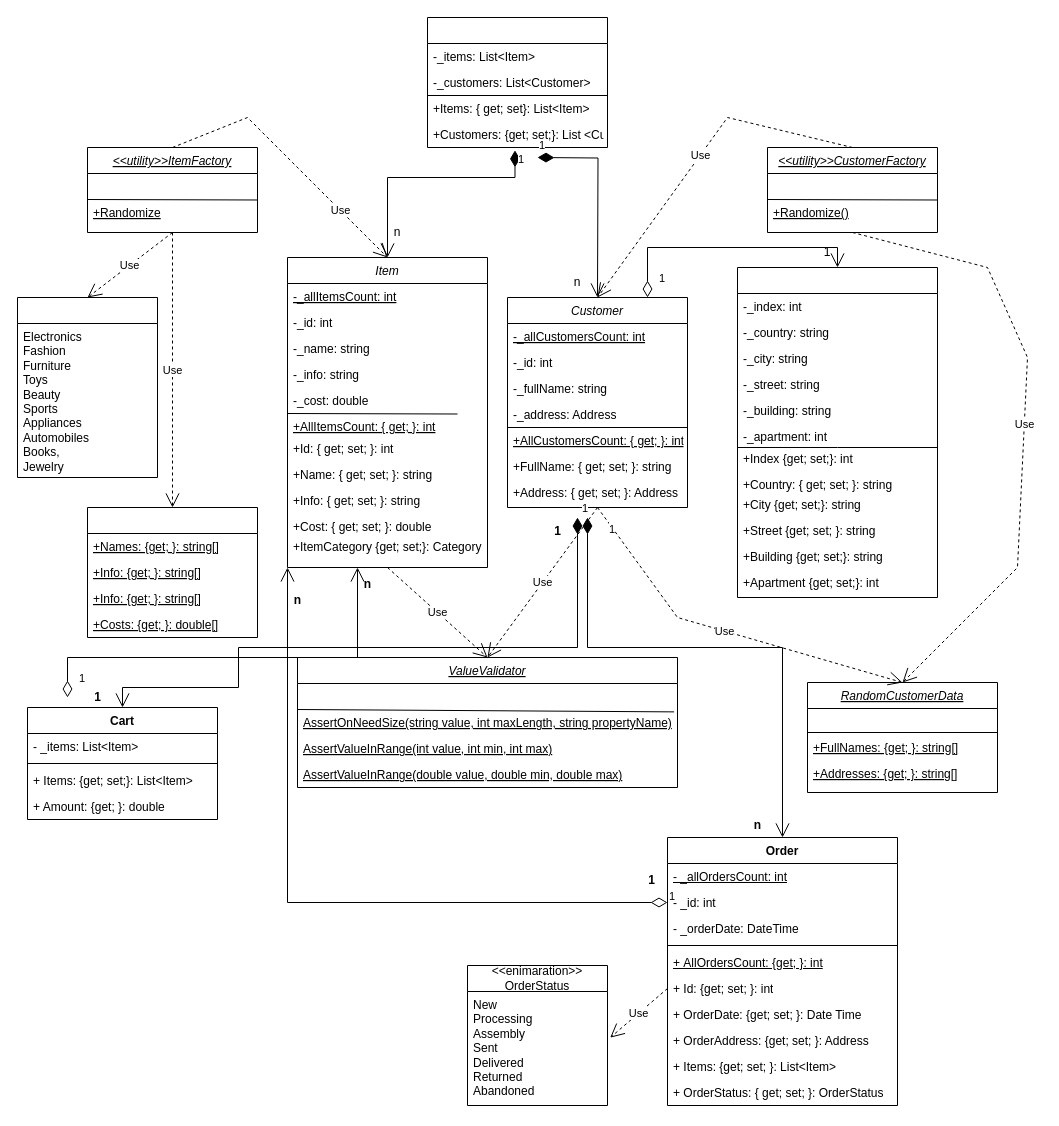
This 1059x1126 diagram has some shape labels left out. The shapes that lost their labels are listed below. From the top down, each one's box as (x1, y1, x2, y2) in pixels, then its label:
(426, 16, 608, 148): Store
(16, 296, 158, 478): <<enimaration>> Category
(736, 266, 938, 598): Address
(86, 506, 258, 638): RandomItemData
